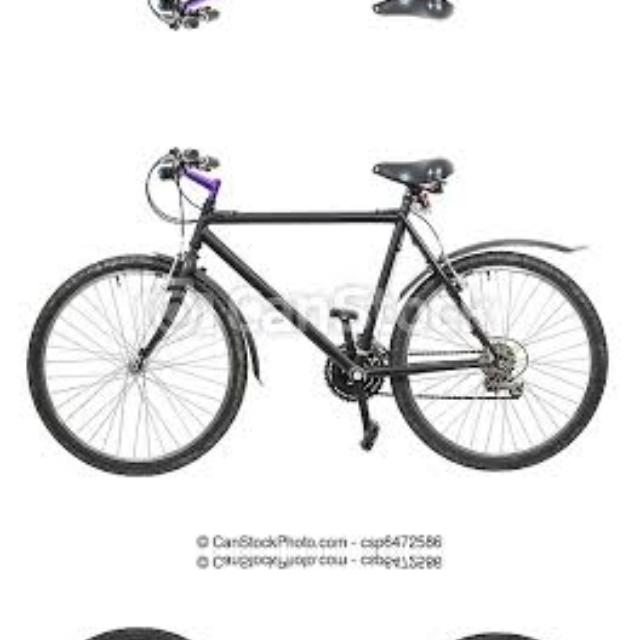obstacle: (21, 122, 616, 504), (21, 0, 616, 54), (21, 598, 616, 640)
